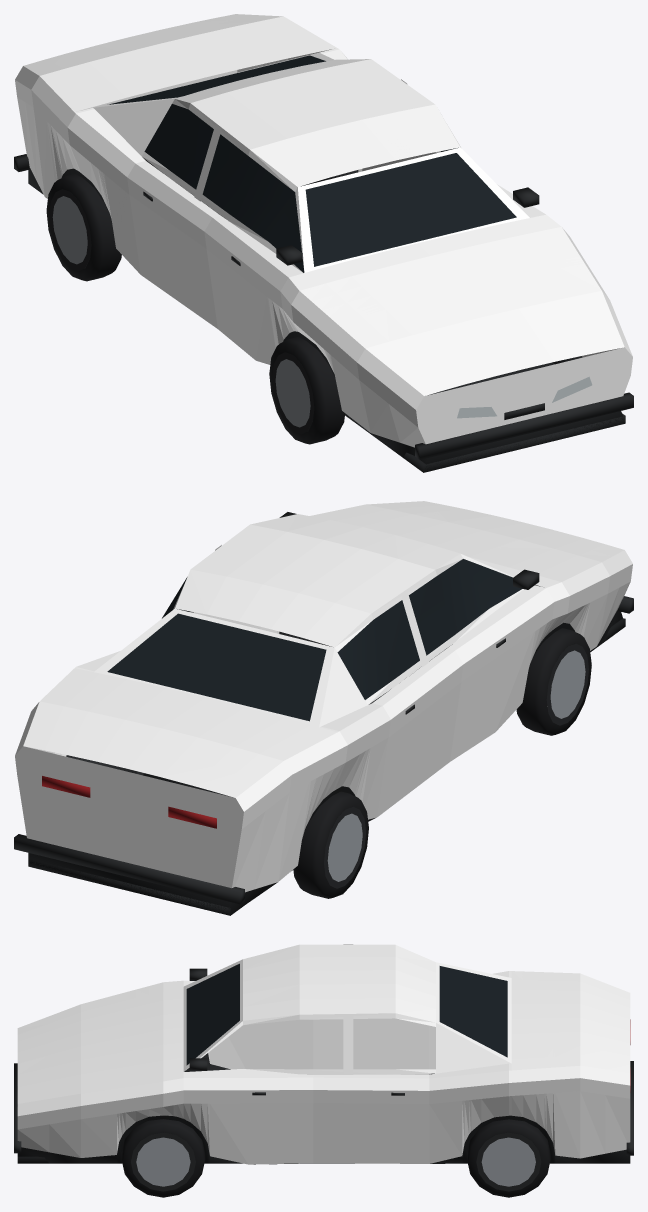
File: kanaya_vertice.glb
3 views of the same model, one above another, from view 1: azimuth 30°, elevation 25°; view 2: azimuth 150°, elevation 25°; view 3: azimuth 270°, elevation 25° (orthographic). The views are drawn at different scales.
Visible parts, largest first — view 1: Body_Paint, Body_Details, Mount_FrontLeft_Wheel_Details, Mount_RearLeft_Wheel_Details; view 2: Body_Paint, Body_Details, Mount_RearLeft_Wheel_Details, Mount_FrontLeft_Wheel_Details; view 3: Body_Paint, Body_Details, Mount_FrontRight_Wheel_Details, Mount_RearRight_Wheel_Details.
Part boxes in pixels (left/top/right/bottom): Body_Paint: left=15, top=14, right=632, bottom=447; Body_Details: left=14, top=55, right=633, bottom=472; Mount_FrontLeft_Wheel_Details: left=269, top=337, right=344, bottom=444; Mount_RearLeft_Wheel_Details: left=46, top=174, right=121, bottom=281; Body_Paint: left=15, top=501, right=632, bottom=892; Body_Details: left=14, top=512, right=633, bottom=915; Mount_RearLeft_Wheel_Details: left=293, top=791, right=368, bottom=898; Mount_FrontLeft_Wheel_Details: left=516, top=628, right=591, bottom=735; Body_Paint: left=17, top=944, right=630, bottom=1164; Body_Details: left=14, top=963, right=633, bottom=1164; Mount_FrontRight_Wheel_Details: left=121, top=1119, right=205, bottom=1197; Mount_RearRight_Wheel_Details: left=467, top=1119, right=550, bottom=1197.
Size of the model in its own units: 1.86 by 1.4 by 4.59.
Materials: 2 (1 with a texture image).
